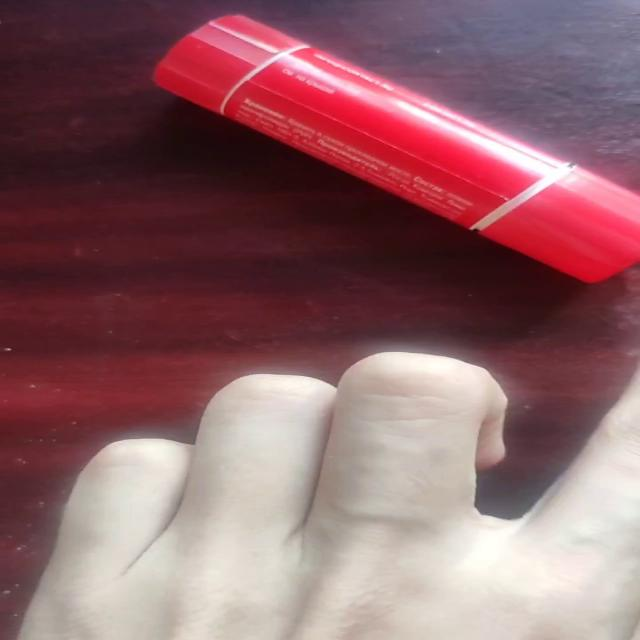glue: (152, 13, 638, 284)
